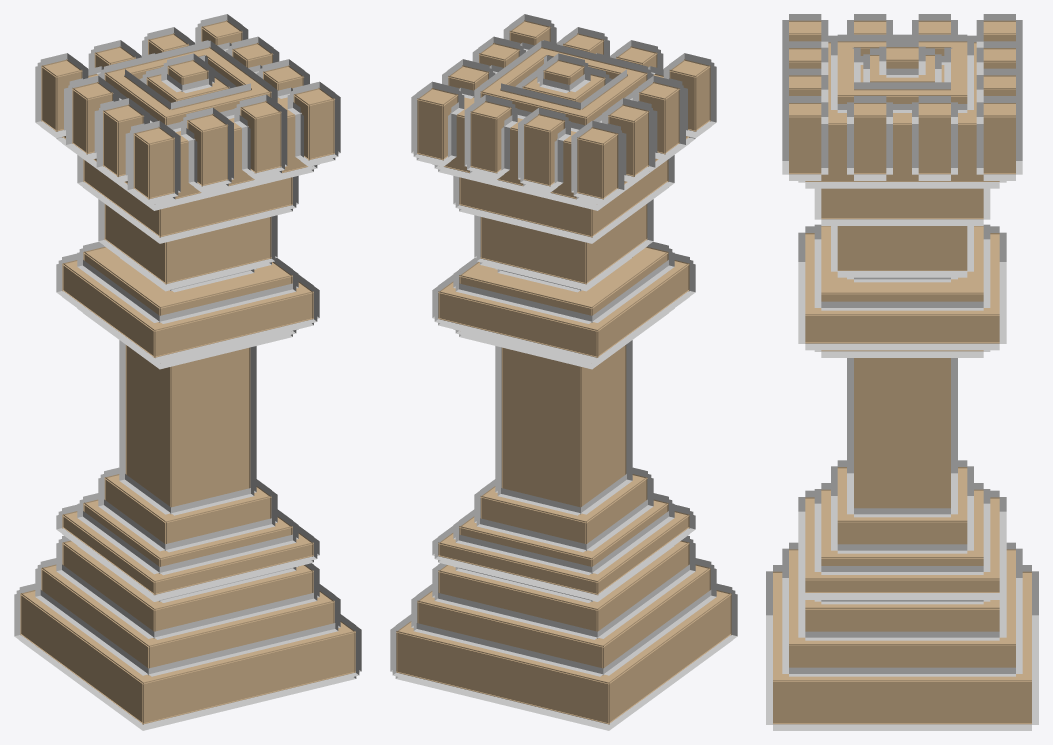
The model's file is tan-queen.glb.
3 views of the same model, side by side, from view 1: azimuth 30°, elevation 25°; view 2: azimuth 150°, elevation 25°; view 3: azimuth 270°, elevation 25° (orthographic). The views are drawn at different scales.
Visible parts, largest first — view 1: chess-queen-tan_model; view 2: chess-queen-tan_model; view 3: chess-queen-tan_model.
Boxes of the visible parts, bbox=[...] form: chess-queen-tan_model: bbox=[14, 14, 361, 730]; chess-queen-tan_model: bbox=[390, 14, 737, 730]; chess-queen-tan_model: bbox=[766, 14, 1038, 730].
Size of the model in its own units: 1.68 by 4.28 by 1.68.
2 materials, 1 textured.
